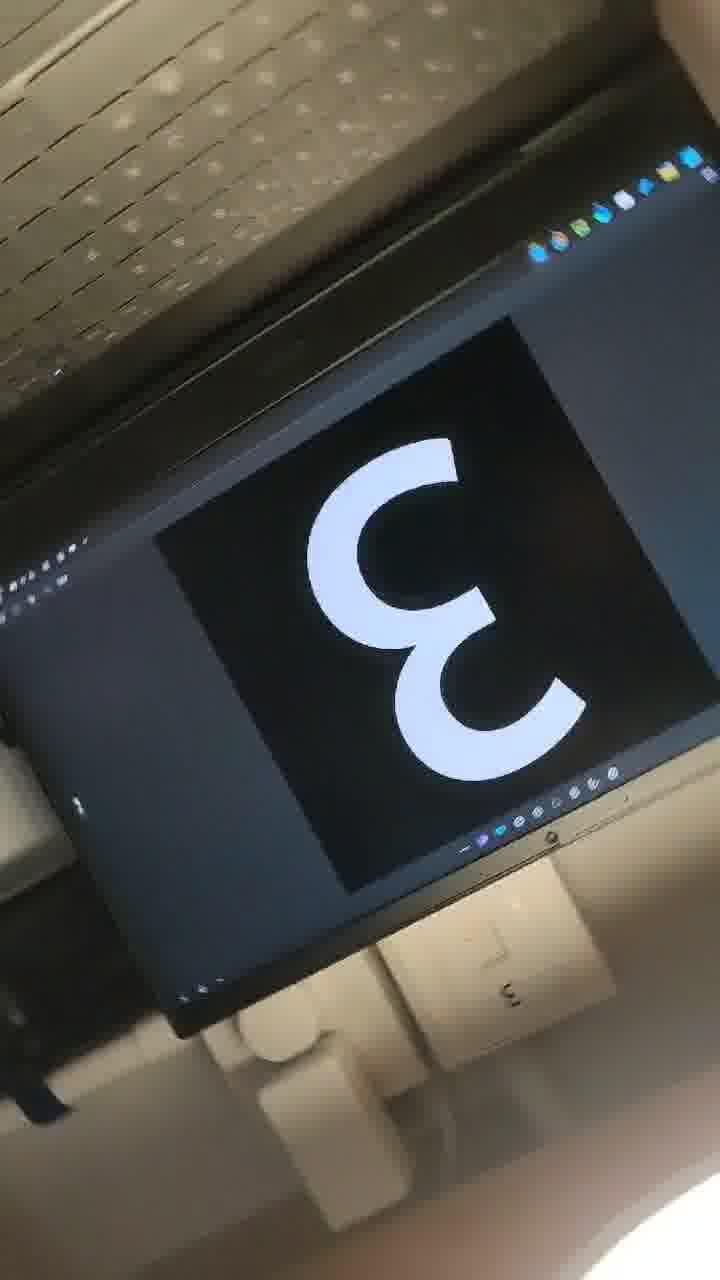three: (254, 386, 633, 859)
